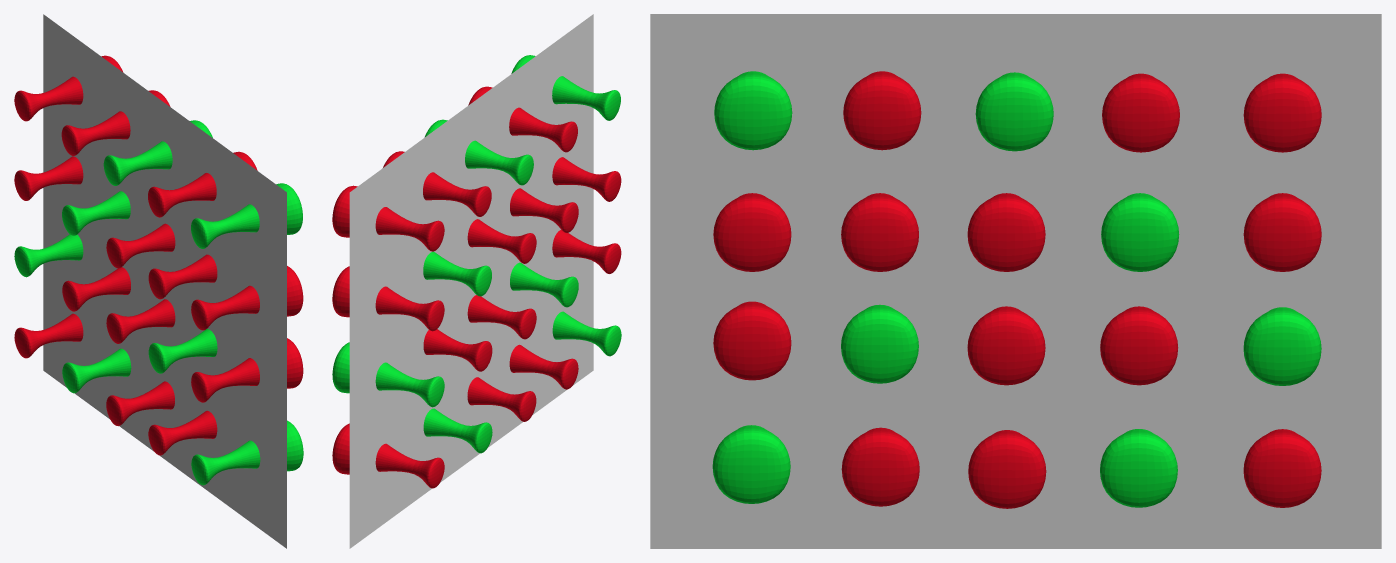
Rendered from Light Wall.fbx.
3 views of the same model, side by side, from view 1: azimuth 30°, elevation 25°; view 2: azimuth 150°, elevation 25°; view 3: azimuth 270°, elevation 25° (orthographic). The views are drawn at different scales.
Parts seen in each view (by area): view 1: Plane, Cube, Cube.019, Cube.009, Cube.010, Cube.001, Cube.002, Cube.003, Cube.004, Cube.008, Cube.005, Cube.016 (+9 smaller); view 2: Plane, Cube.004, Cube.005, Cube.014, Cube.015, Cube.001, Cube, Cube.002, Cube.003, Cube.016, Cube.019, Cube.011 (+9 smaller); view 3: Plane, Cube.002, Cube.006, Cube, Cube.001, Cube.010, Cube.008, Cube.016, Cube.003, Cube.004, Cube.013, Cube.018 (+9 smaller).
Boxes of the visible parts, <box> form: Plane: <box>43,14,286,548</box>; Cube: <box>191,183,302,248</box>; Cube.019: <box>191,420,303,485</box>; Cube.009: <box>191,266,303,330</box>; Cube.010: <box>191,338,303,402</box>; Cube.001: <box>148,151,257,217</box>; Cube.002: <box>103,120,212,185</box>; Cube.003: <box>61,90,170,155</box>; Cube.004: <box>14,55,123,121</box>; Cube.008: <box>148,254,217,299</box>; Cube.005: <box>14,156,83,200</box>; Cube.016: <box>62,348,131,393</box>; Plane: <box>349,14,593,548</box>; Cube.004: <box>332,185,444,251</box>; Cube.005: <box>332,266,444,331</box>; Cube.014: <box>332,342,444,407</box>; Cube.015: <box>332,423,444,488</box>; Cube.001: <box>468,86,577,152</box>; Cube: <box>511,55,620,120</box>; Cube.002: <box>424,119,533,185</box>; Cube.003: <box>383,151,491,216</box>; Cube.016: <box>423,408,492,453</box>; Cube.019: <box>552,311,621,356</box>; Cube.011: <box>510,262,578,307</box>; Plane: <box>650,14,1381,548</box>; Cube.002: <box>975,72,1053,151</box>; Cube.006: <box>1101,193,1179,271</box>; Cube: <box>714,71,792,150</box>; Cube.001: <box>843,71,921,150</box>; Cube.010: <box>713,301,791,380</box>; Cube.008: <box>841,193,918,271</box>; Cube.016: <box>1100,429,1177,507</box>; Cube.003: <box>1102,73,1179,152</box>; Cube.004: <box>1243,73,1321,152</box>; Cube.013: <box>1100,306,1178,385</box>; Cube.018: <box>841,427,919,506</box>.
Size of the model in its own units: 194 by 670 by 830.
